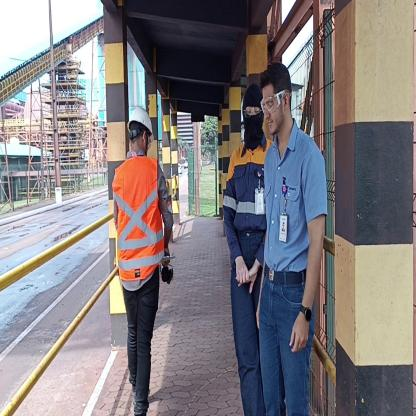Balaclava: (238, 83, 263, 149)
Capacete: (128, 103, 150, 131)
Operacional: (220, 144, 268, 233)
colete: (112, 157, 166, 272)
